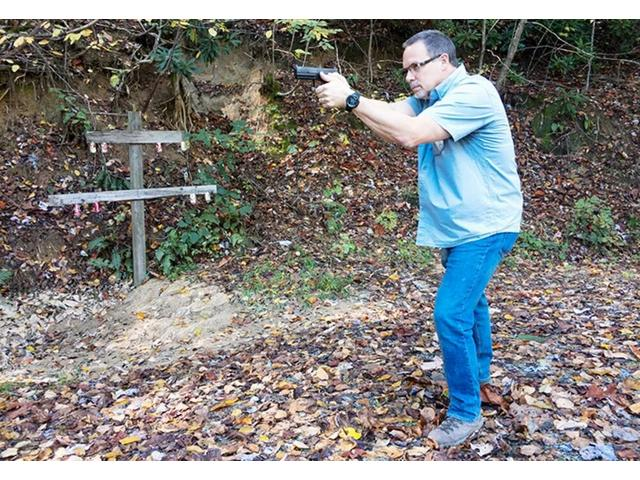pistol: (293, 64, 344, 111)
